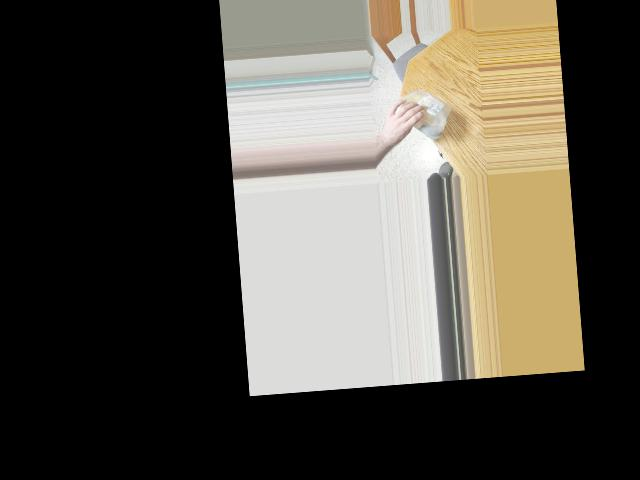cheese: (388, 85, 455, 141)
